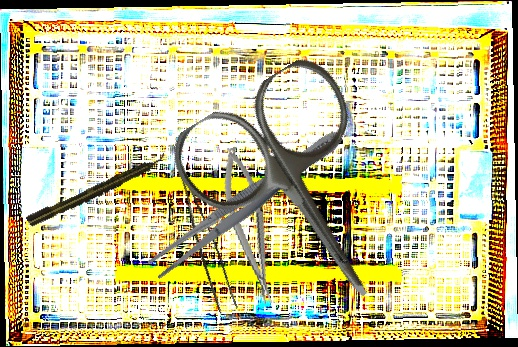Dressing Forceps: (144, 122, 349, 284)
Handpiece: (25, 151, 169, 229)
Iris Scissors: (160, 48, 441, 345)
Needle Holder: (216, 144, 280, 308)
Tissue Forceps: (157, 155, 243, 316)
